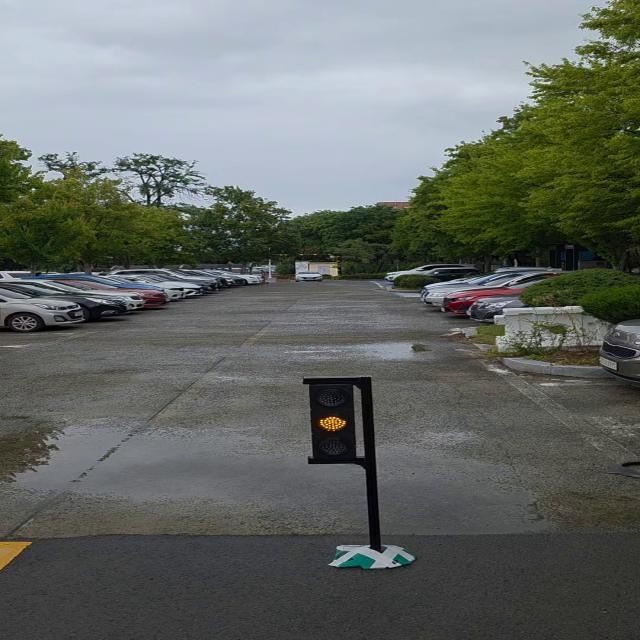yellow: (308, 377, 362, 461)
